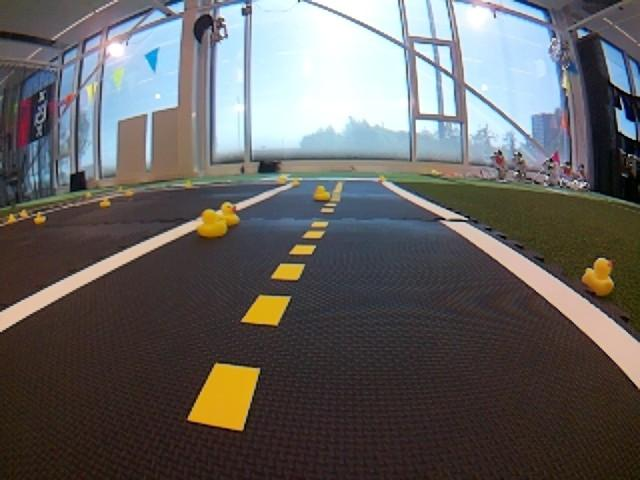Duckies: (582, 259, 615, 295), (197, 209, 228, 237), (213, 201, 239, 225), (312, 185, 330, 201), (34, 214, 46, 224), (7, 213, 18, 223), (99, 198, 111, 207), (18, 209, 29, 216), (124, 189, 133, 197), (278, 175, 287, 183), (291, 179, 301, 185), (186, 179, 192, 187), (86, 192, 92, 198), (379, 176, 385, 180)
